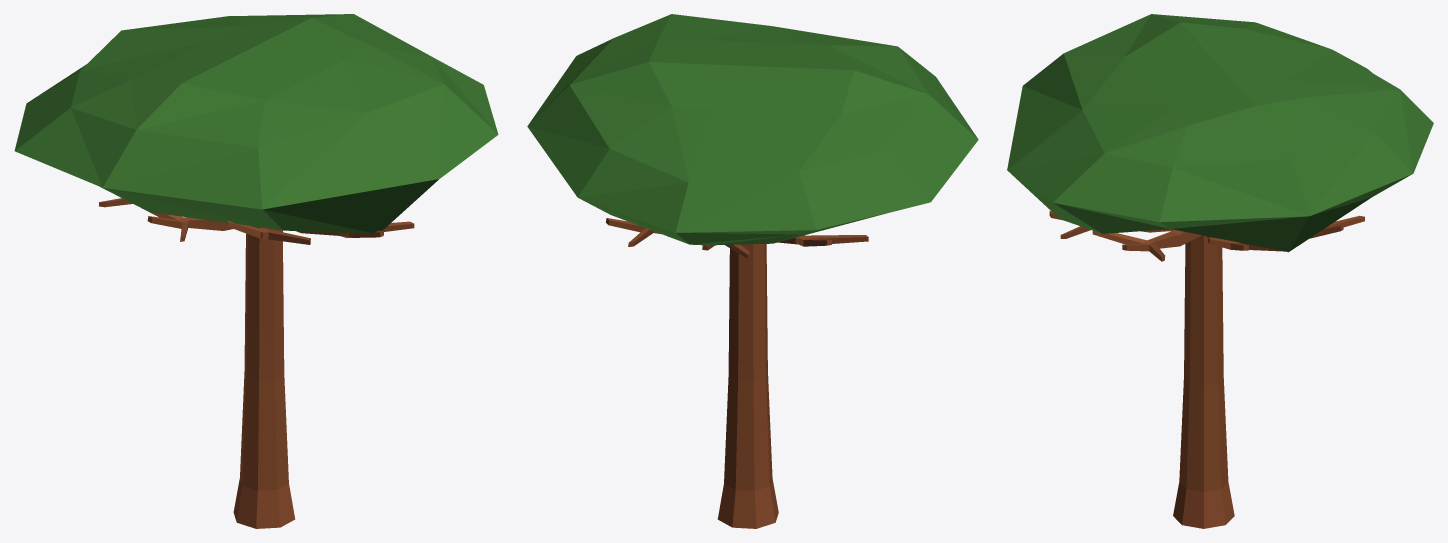
File: bunker47-prop-palm06.glb
The picture shows the model from 3 angles, left to right: view 1: azimuth 30°, elevation 25°; view 2: azimuth 150°, elevation 25°; view 3: azimuth 270°, elevation 25°; orthographic projection. The views are drawn at different scales.
Parts seen in each view (by area): view 1: Tree_Tropic_006; view 2: Tree_Tropic_006; view 3: Tree_Tropic_006.
Part boxes in pixels (<box>): Tree_Tropic_006: <box>14,14,498,528</box>; Tree_Tropic_006: <box>527,14,978,528</box>; Tree_Tropic_006: <box>1007,14,1433,528</box>.
Size of the model in its own units: 864 by 927 by 799.
Materials: 1 (1 with a texture image).
